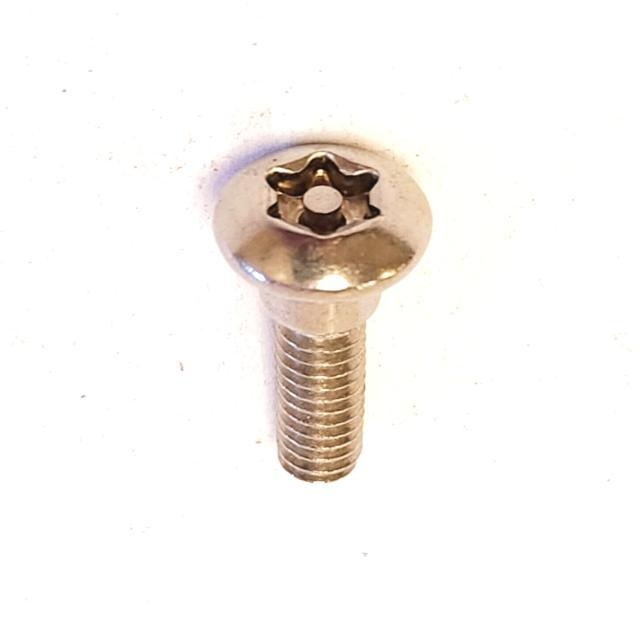torx: (211, 143, 433, 299)
